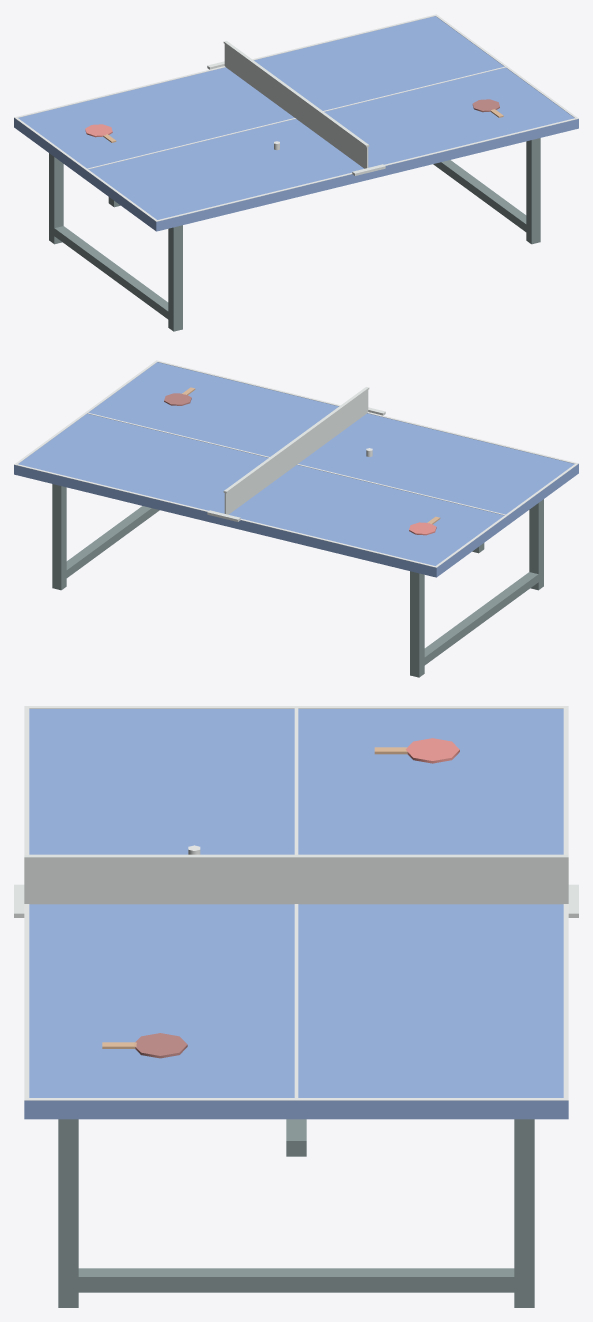
The model's file is tableTennisTable.glb.
3 renders of one model, top to bottom at view 1: azimuth 30°, elevation 25°; view 2: azimuth 150°, elevation 25°; view 3: azimuth 270°, elevation 25°, orthographic. The views are drawn at different scales.
Visible parts, largest first — view 1: tableTennisTable; view 2: tableTennisTable; view 3: tableTennisTable.
Boxes of the visible parts, bbox=[...] form: tableTennisTable: bbox=[14, 14, 578, 331]; tableTennisTable: bbox=[14, 360, 578, 677]; tableTennisTable: bbox=[14, 706, 578, 1307].
Size of the model in its own units: 1.37 by 0.4575 by 0.83.
